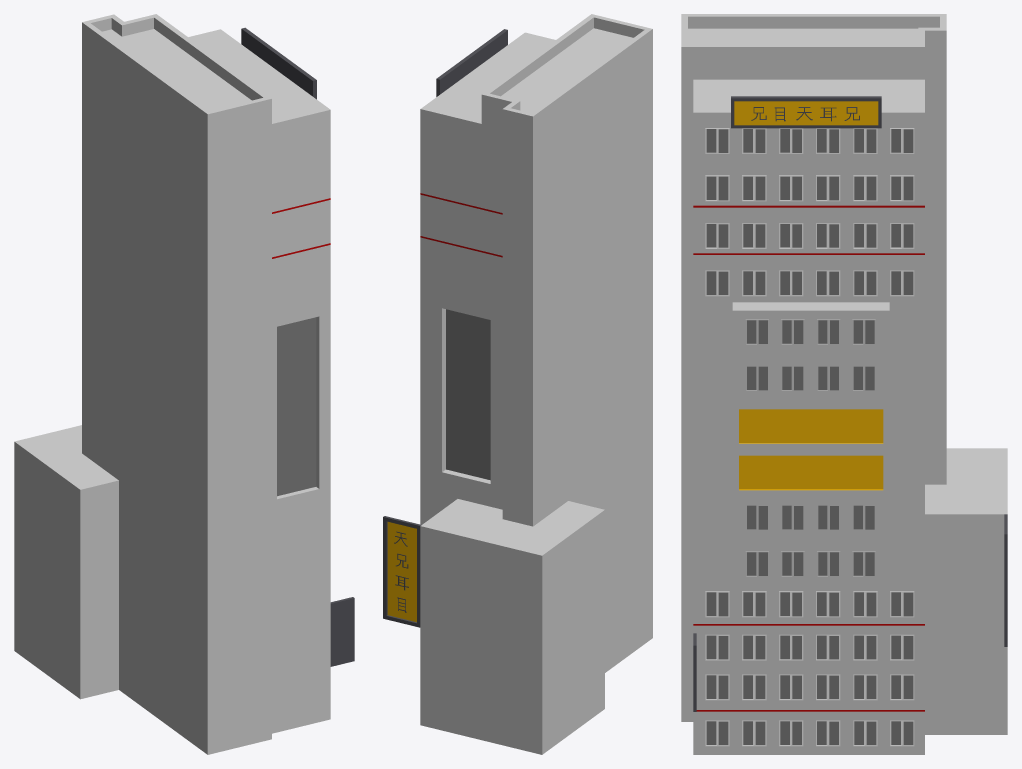
File: Punk5last.fbx
3 views of the same model, side by side, from view 1: azimuth 30°, elevation 25°; view 2: azimuth 150°, elevation 25°; view 3: azimuth 270°, elevation 25° (orthographic). The views are drawn at different scales.
Parts seen in each view (by area): view 1: Group1, Group18, Group20, Group19, Group2, Group8, Group12; view 2: Group1, Group18, Group20, Group19, Group2, Group3, Group12; view 3: Group18, Group1, Group11, Group19, Group20, Group2, Group12.
Boxes of the visible parts, bbox=[...] form: Group1: bbox=[82, 143, 330, 545]; Group18: bbox=[14, 425, 330, 754]; Group20: bbox=[82, 29, 330, 190]; Group19: bbox=[82, 14, 271, 144]; Group2: bbox=[82, 98, 330, 235]; Group8: bbox=[330, 597, 354, 666]; Group12: bbox=[241, 27, 316, 99]; Group1: bbox=[420, 144, 652, 526]; Group18: bbox=[420, 439, 652, 754]; Group20: bbox=[420, 32, 652, 188]; Group19: bbox=[481, 14, 652, 145]; Group2: bbox=[420, 101, 652, 231]; Group3: bbox=[383, 516, 421, 627]; Group12: bbox=[436, 29, 507, 96]; Group18: bbox=[681, 448, 1007, 754]; Group1: bbox=[681, 158, 946, 534]; Group11: bbox=[732, 302, 889, 588]; Group19: bbox=[681, 14, 946, 79]; Group20: bbox=[681, 63, 946, 159]; Group2: bbox=[681, 110, 946, 207]; Group12: bbox=[731, 96, 881, 128].
Bounding box in the file's own units: 1768 × 5664 × 2483.
